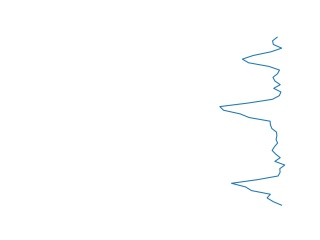underwaterNaturalLevee: (212, 34, 291, 209)
